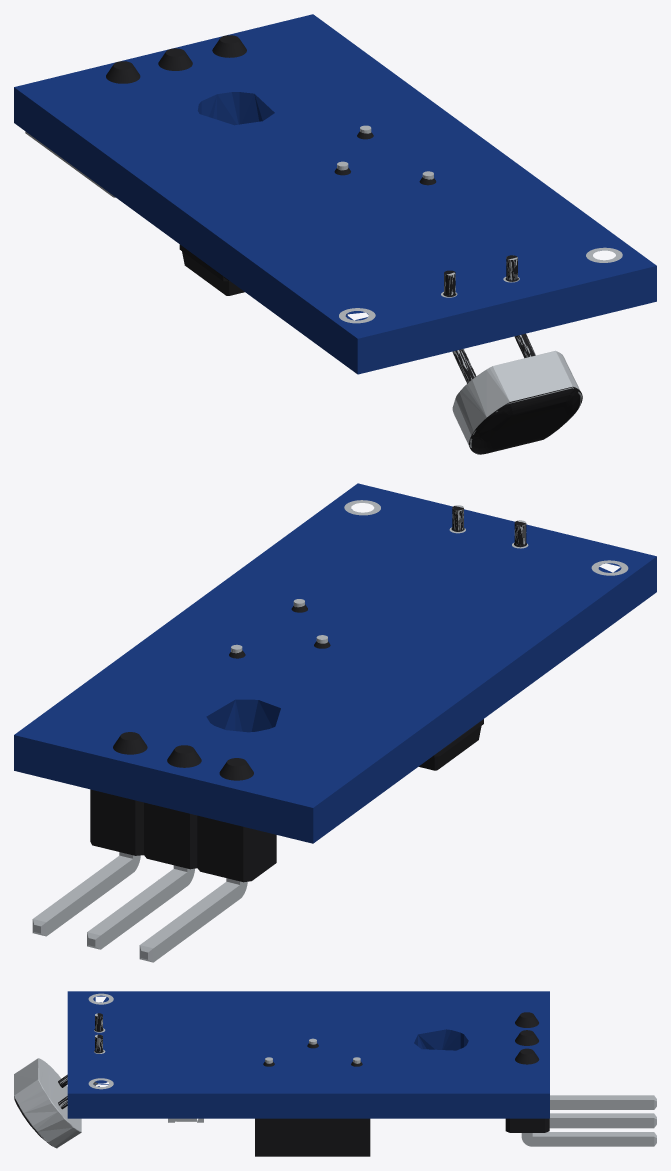
The model's file is ldr-light-sensor.glb.
The picture shows the model from 3 angles, top to bottom: view 1: azimuth 30°, elevation 25°; view 2: azimuth 150°, elevation 25°; view 3: azimuth 270°, elevation 25°; orthographic projection. The views are drawn at different scales.
Visible parts, largest first — view 1: part_5, part_1, part_3; view 2: part_5, part_1, part_3; view 3: part_5, part_3, part_1.
Part boxes in pixels (box(x1,y1,x2,y2)): part_5: box(14, 14, 656, 374); part_1: box(106, 35, 582, 454); part_3: box(25, 125, 622, 454); part_5: box(14, 483, 656, 843); part_1: box(90, 506, 526, 882); part_3: box(32, 500, 628, 962); part_5: box(67, 991, 549, 1118); part_3: box(14, 993, 656, 1148); part_1: box(14, 1012, 549, 1156).
Bounding box in the file's own units: 0.0147 × 0.0075 × 0.0389.
